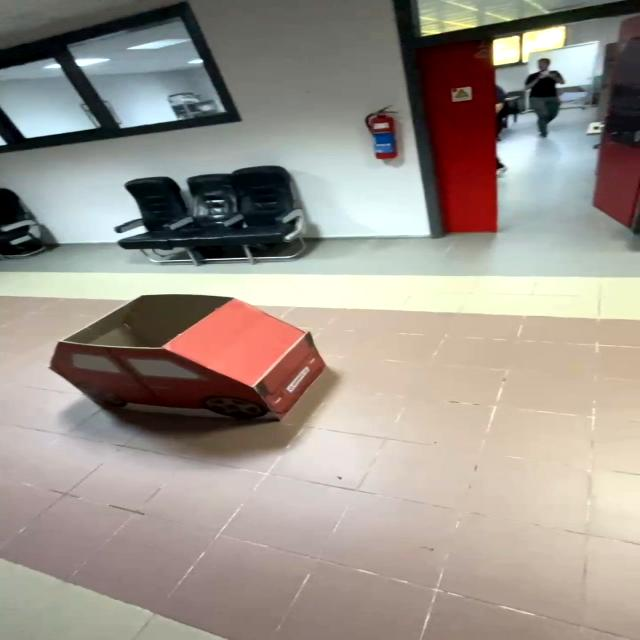red_car: (28, 282, 381, 442)
